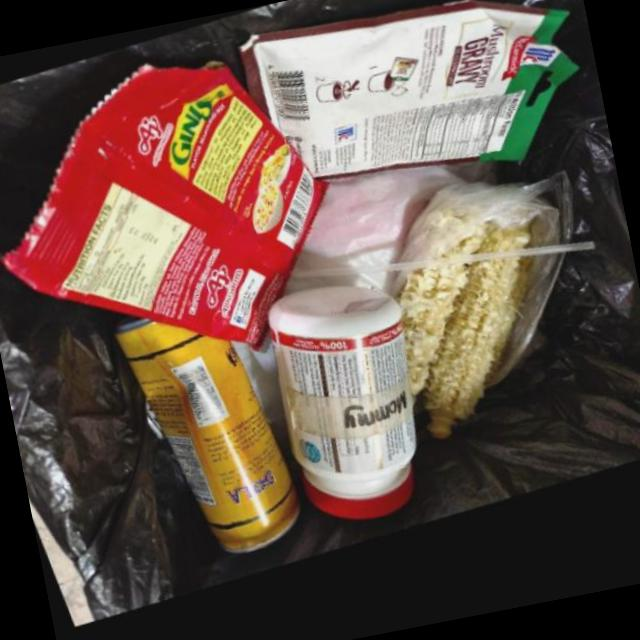chai_nhua: (265, 288, 413, 525)
goi_nhua_nho: (0, 63, 326, 356), (239, 0, 579, 182)
nhom: (112, 321, 297, 560)
ong_hut_nhua: (289, 243, 592, 282)
thuc_an_thua: (417, 223, 532, 443), (396, 266, 466, 399), (442, 226, 486, 261)
tui_ni_long: (396, 172, 588, 443)
